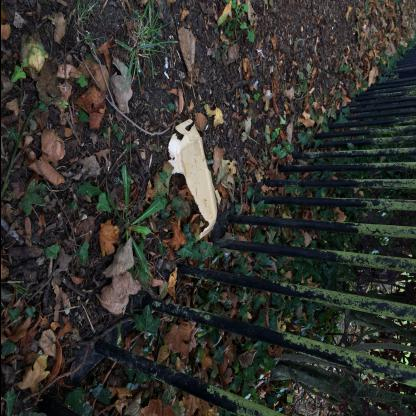kopuk: (166, 119, 216, 239)
